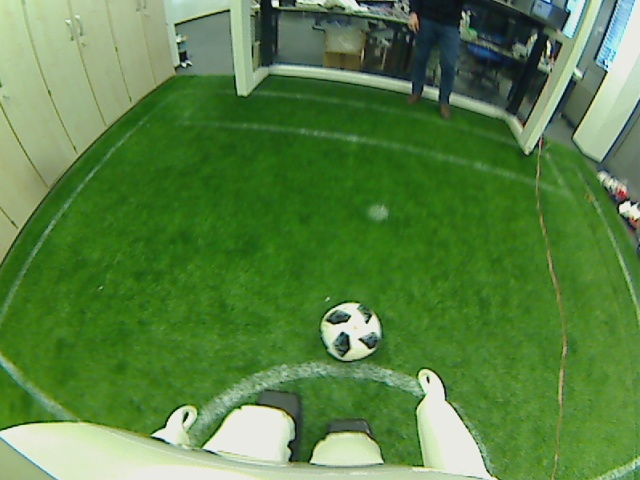ball: (319, 298, 384, 365)
